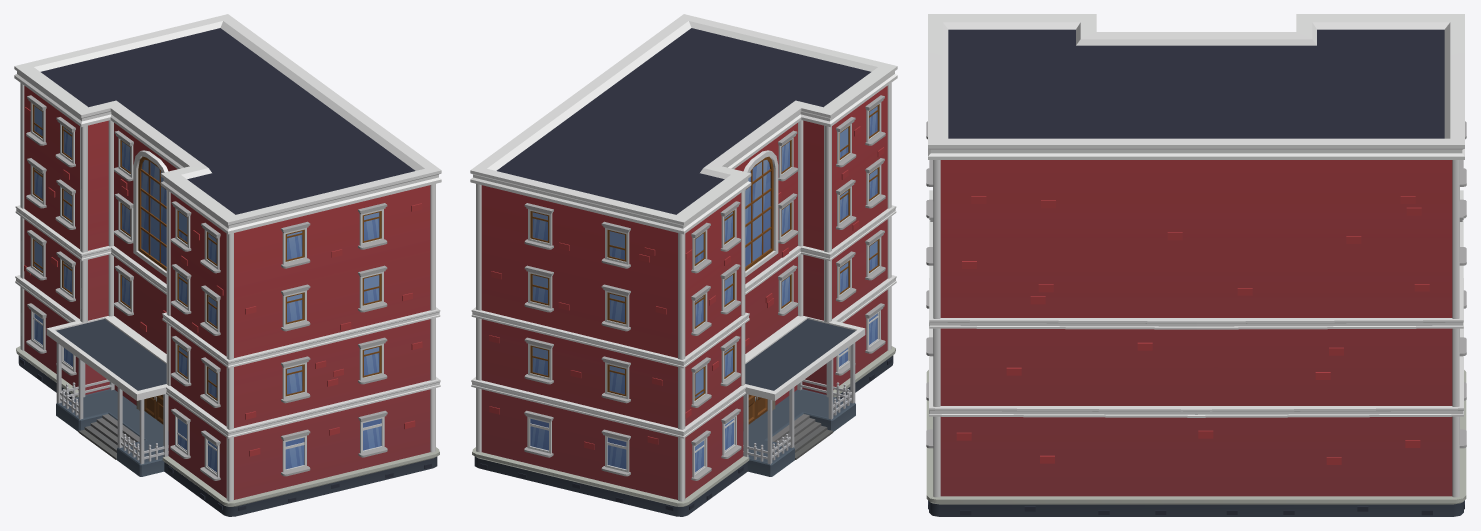
The model's file is Building_5_3_J.glb.
3 views of the same model, side by side, from view 1: azimuth 30°, elevation 25°; view 2: azimuth 150°, elevation 25°; view 3: azimuth 270°, elevation 25° (orthographic). The views are drawn at different scales.
Visible parts, largest first — view 1: Building_5_3_J; view 2: Building_5_3_J; view 3: Building_5_3_J.
Boxes of the visible parts, x1,y1,x2,y2 form: Building_5_3_J: (14, 14, 441, 516); Building_5_3_J: (470, 14, 897, 516); Building_5_3_J: (926, 14, 1466, 516).
Size of the model in its own units: 12.51 by 14.5 by 19.08.
3 materials, 3 textured.
